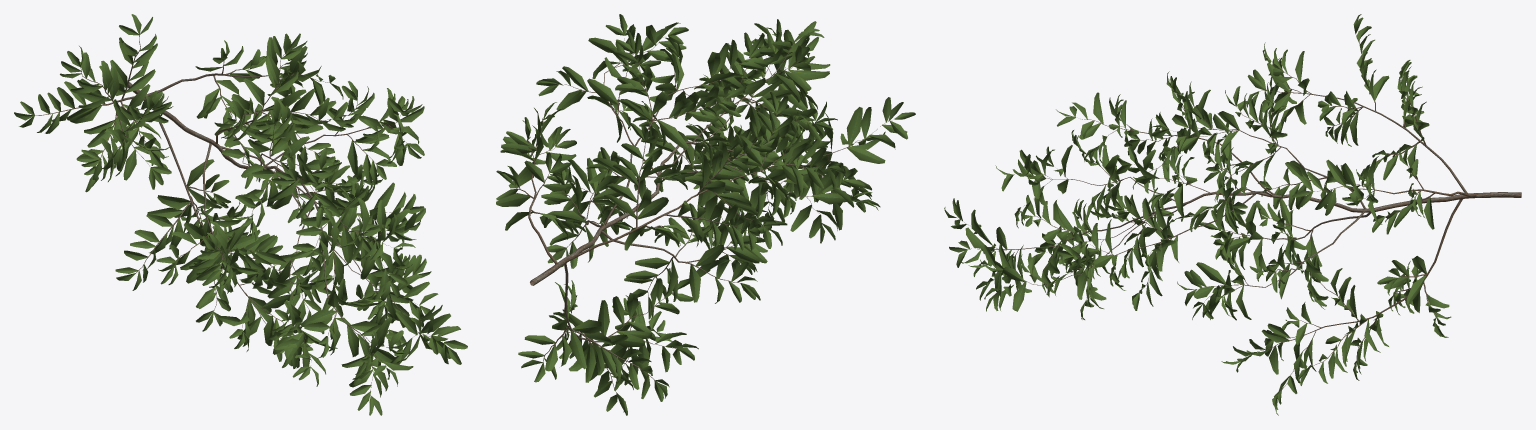
Rendered from new_shrub_6.obj.
3 renders of one model, left to right at view 1: azimuth 30°, elevation 25°; view 2: azimuth 150°, elevation 25°; view 3: azimuth 270°, elevation 25°, orthographic. The views are drawn at different scales.
Parts seen in each view (by area): view 1: Leaf_Summer_Bush_01_08, Trunk_Summer_Bush_01_08; view 2: Leaf_Summer_Bush_01_08, Trunk_Summer_Bush_01_08; view 3: Leaf_Summer_Bush_01_08, Trunk_Summer_Bush_01_08.
Boxes of the visible parts, x1,y1,x2,y2 form: Leaf_Summer_Bush_01_08: (14,14,467,415); Trunk_Summer_Bush_01_08: (35,35,442,395); Leaf_Summer_Bush_01_08: (496,14,915,415); Trunk_Summer_Bush_01_08: (514,37,888,393); Leaf_Summer_Bush_01_08: (944,14,1451,415); Trunk_Summer_Bush_01_08: (961,35,1521,393).
Bounding box in the file's own units: 0.5564 × 0.5851 × 0.9385.
2 materials, 2 textured.
